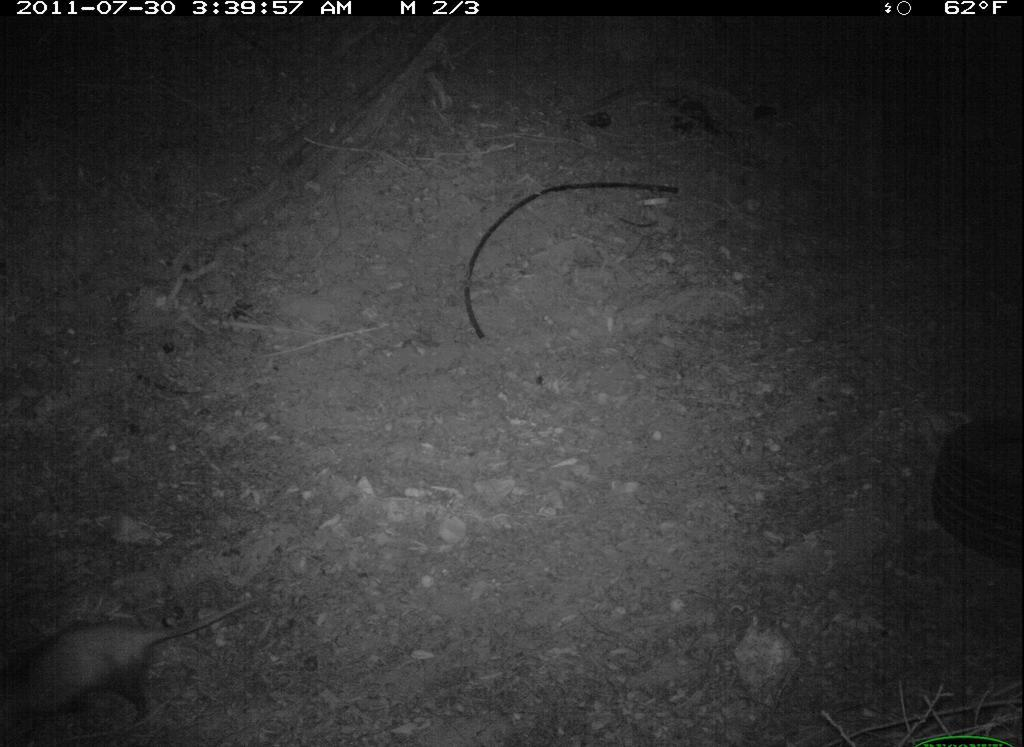opossum: (12, 592, 285, 726)
